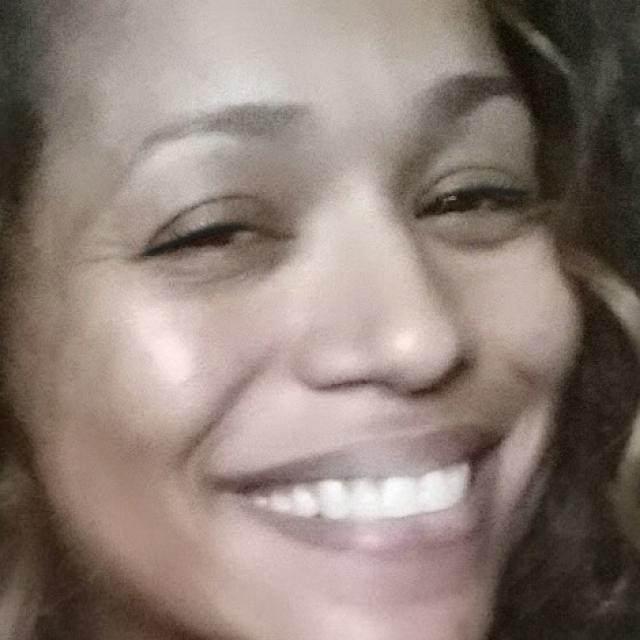Normal: (9, 2, 586, 639)
